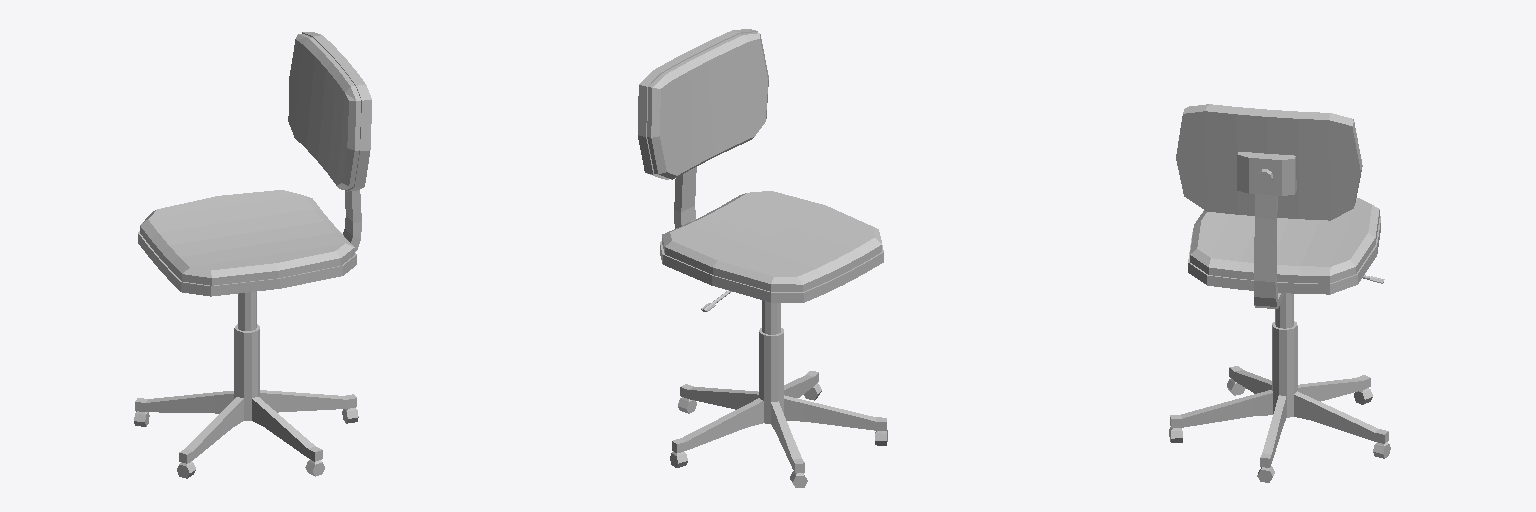
The model's file is office_chair.obj.
3 renders of one model, left to right at view 1: azimuth 30°, elevation 25°; view 2: azimuth 150°, elevation 25°; view 3: azimuth 270°, elevation 25°, orthographic.
Parts seen in each view (by area): view 1: Stool_Cube.133; view 2: Stool_Cube.133; view 3: Stool_Cube.133.
Boxes of the visible parts, x1=… form: Stool_Cube.133: x1=134, y1=32, x2=371, y2=478; Stool_Cube.133: x1=638, y1=29, x2=887, y2=487; Stool_Cube.133: x1=1169, y1=104, x2=1390, y2=482.
Bounding box in the file's own units: 2.49 × 4.35 × 2.41.